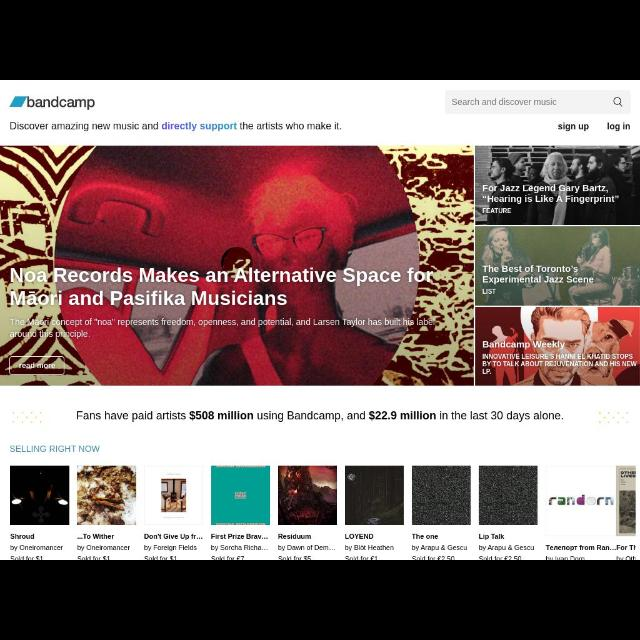icon: (614, 97, 622, 107)
image: (2, 146, 474, 384), (475, 306, 639, 386), (475, 227, 639, 305), (475, 146, 639, 224), (547, 468, 615, 528), (212, 464, 272, 524), (413, 464, 471, 526), (77, 464, 136, 524), (10, 466, 70, 524), (279, 464, 337, 524), (345, 464, 403, 524), (147, 466, 205, 524), (479, 466, 536, 524), (616, 466, 636, 536), (10, 96, 96, 110)
input: (446, 91, 630, 112)
text: (76, 412, 564, 422), (9, 121, 344, 133), (9, 443, 101, 455), (451, 98, 557, 108), (546, 544, 636, 550), (411, 544, 472, 552), (146, 533, 202, 541), (478, 544, 534, 552), (144, 544, 198, 552), (11, 544, 64, 552), (78, 544, 128, 552), (345, 543, 395, 551), (211, 533, 269, 539), (210, 546, 268, 552), (277, 544, 335, 550), (78, 532, 114, 540), (557, 123, 589, 131), (606, 122, 630, 132), (346, 532, 374, 540), (11, 533, 34, 541), (412, 556, 458, 560), (280, 534, 310, 540), (479, 555, 521, 559), (546, 555, 586, 559), (412, 534, 438, 540), (480, 534, 504, 540), (145, 555, 179, 559), (345, 556, 379, 560), (12, 555, 44, 559), (78, 555, 110, 559), (212, 556, 246, 558), (281, 556, 315, 558)
toolbar: (1, 81, 639, 145)
